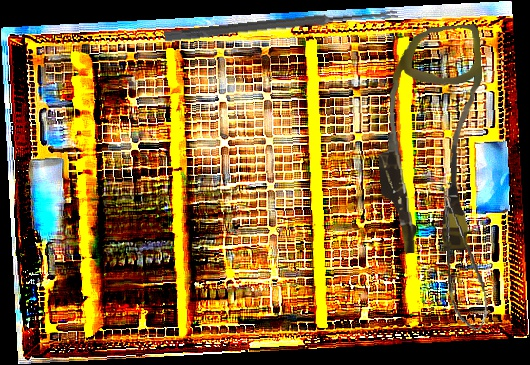Cannula: (369, 23, 495, 256)
Micro Scissor: (437, 185, 492, 334)
Surgical Spoon: (164, 6, 398, 44)
